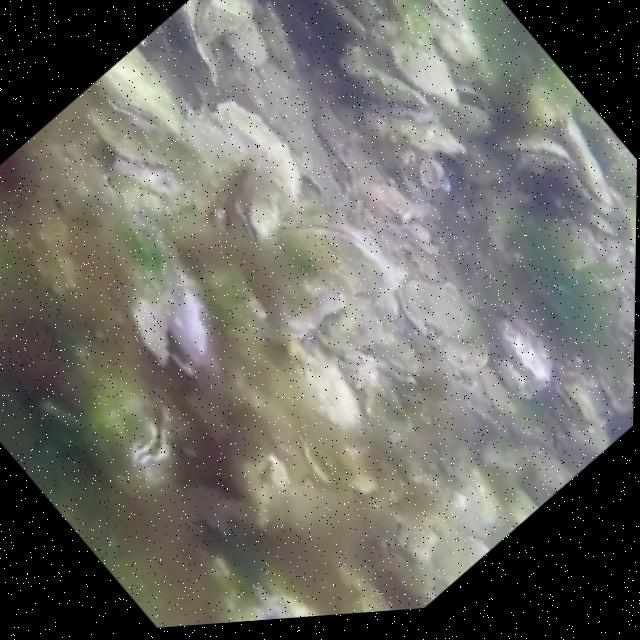Oyster-Closed: (84, 372, 179, 493), (277, 216, 389, 298), (97, 45, 186, 144), (560, 114, 615, 219), (271, 270, 346, 341), (501, 131, 575, 174), (558, 383, 594, 422), (429, 0, 476, 27), (340, 0, 380, 28)
Oyster-Indeterminate: (186, 104, 301, 213), (345, 40, 433, 115), (293, 338, 364, 428), (89, 108, 183, 166), (491, 317, 549, 396), (393, 40, 458, 110), (402, 282, 476, 341), (528, 51, 581, 121), (262, 5, 303, 79), (114, 175, 168, 215), (480, 365, 513, 414), (228, 26, 266, 63)
Oyster-Open: (130, 237, 203, 378), (444, 83, 494, 139), (304, 434, 339, 486)
